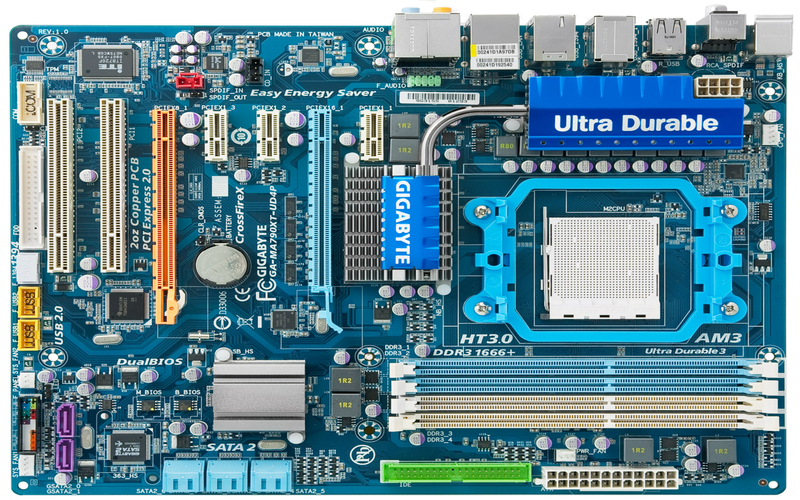Cirtuit-Board: (6, 11, 798, 500)
